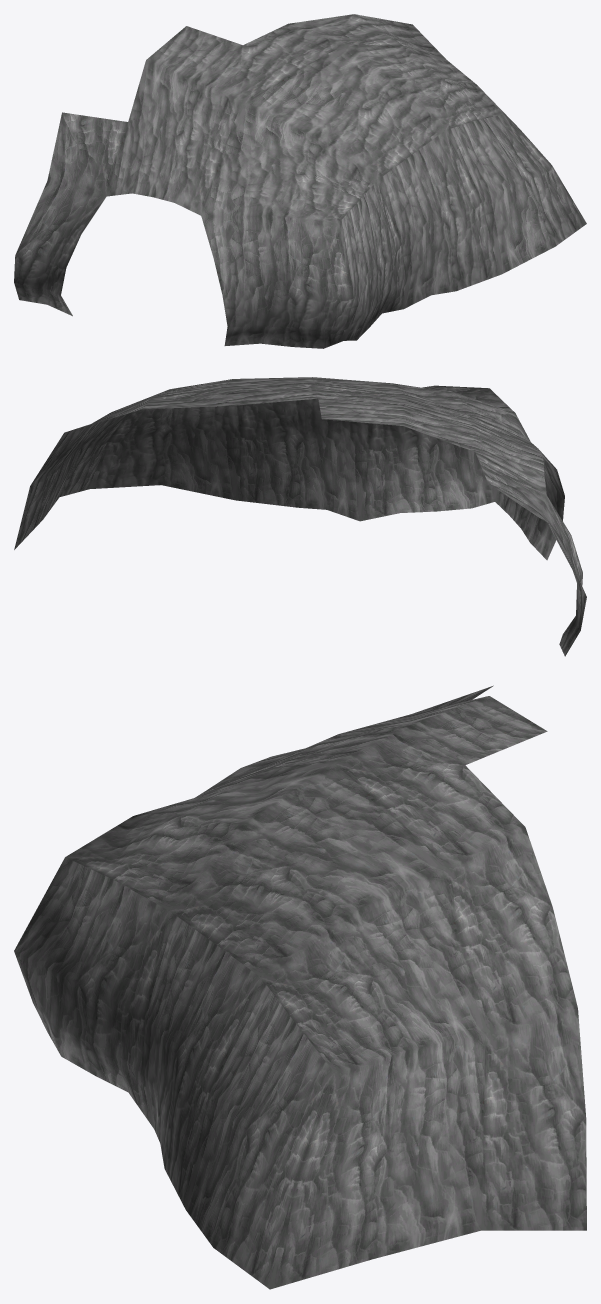
File: SWORDLIGHT20_PS-AREA03-05TRANS_06.fbx
3 views of the same model, one above another, from view 1: azimuth 30°, elevation 25°; view 2: azimuth 150°, elevation 25°; view 3: azimuth 270°, elevation 25° (orthographic). The views are drawn at different scales.
Parts seen in each view (by area): view 1: SWORDLIGHT20_PS-AREA03-05TRANS_06; view 2: SWORDLIGHT20_PS-AREA03-05TRANS_06; view 3: SWORDLIGHT20_PS-AREA03-05TRANS_06.
Part boxes in pixels (left/top/right/bottom): SWORDLIGHT20_PS-AREA03-05TRANS_06: left=14, top=14, right=586, bottom=348; SWORDLIGHT20_PS-AREA03-05TRANS_06: left=14, top=377, right=586, bottom=656; SWORDLIGHT20_PS-AREA03-05TRANS_06: left=14, top=685, right=586, bottom=1289.
Bounding box in the file's own units: 236290 × 91717 × 144554.
1 material, 1 textured.
